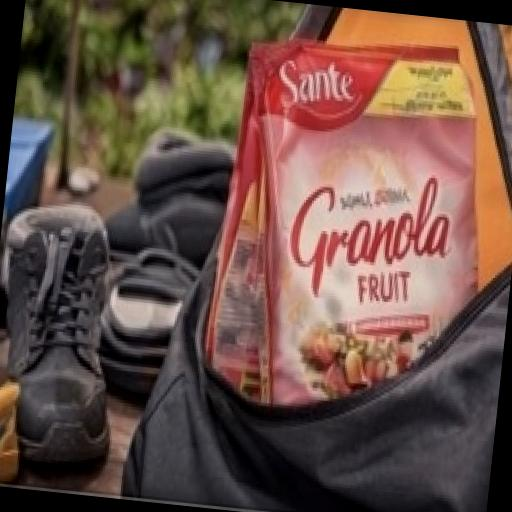granola: (165, 0, 512, 508)
